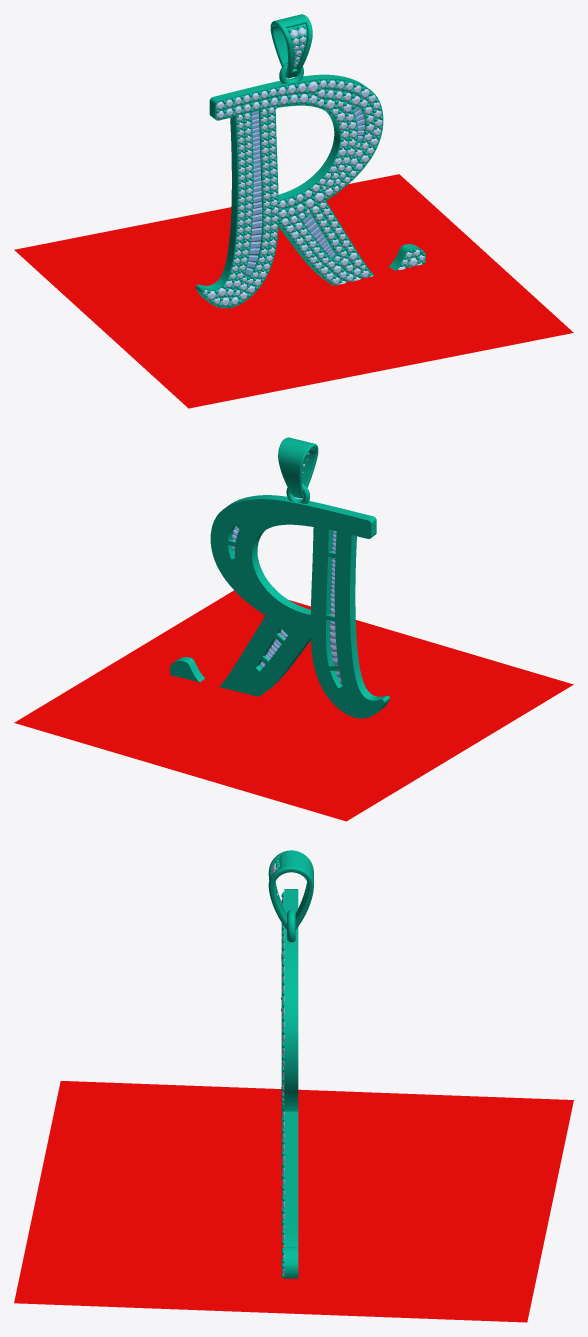
The picture shows the model from 3 angles, top to bottom: view 1: azimuth 30°, elevation 25°; view 2: azimuth 150°, elevation 25°; view 3: azimuth 270°, elevation 25°; orthographic projection. The views are drawn at different scales.
Parts seen in each view (by area): view 1: PN 0021 (1)(front).3dm; view 2: PN 0021 (1)(front).3dm; view 3: PN 0021 (1)(front).3dm.
Boxes of the visible parts, x1,y1,x2,y2 form: PN 0021 (1)(front).3dm: (14,14,573,408); PN 0021 (1)(front).3dm: (14,437,573,821); PN 0021 (1)(front).3dm: (14,850,573,1322).
Size of the model in its own units: 4.38 by 3.13 by 4.29.
